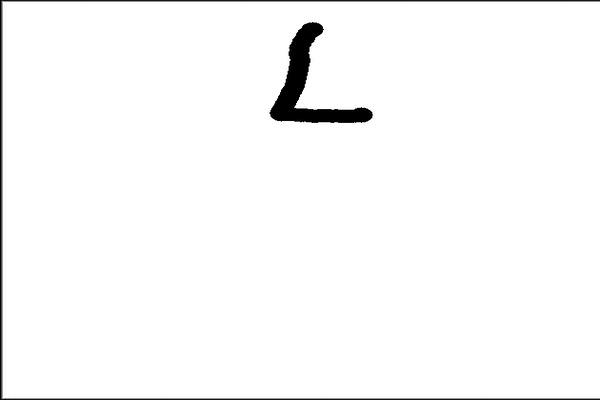L: (255, 12, 377, 132)
